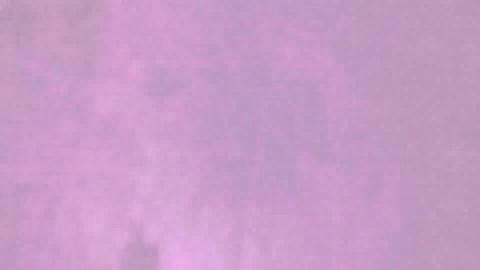tomato: (276, 131, 477, 268)
